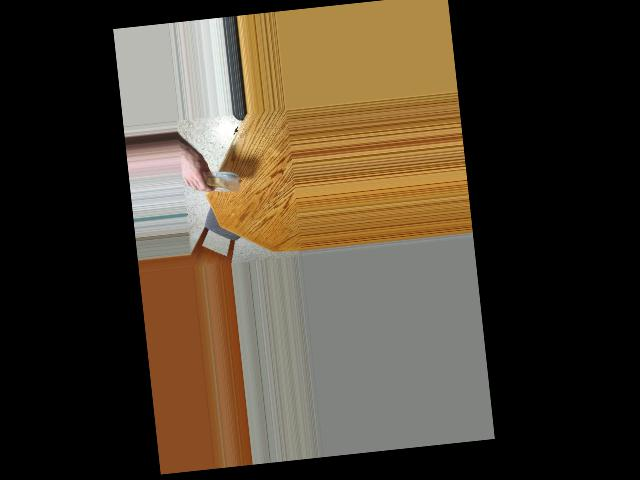cheese: (190, 151, 242, 204)
